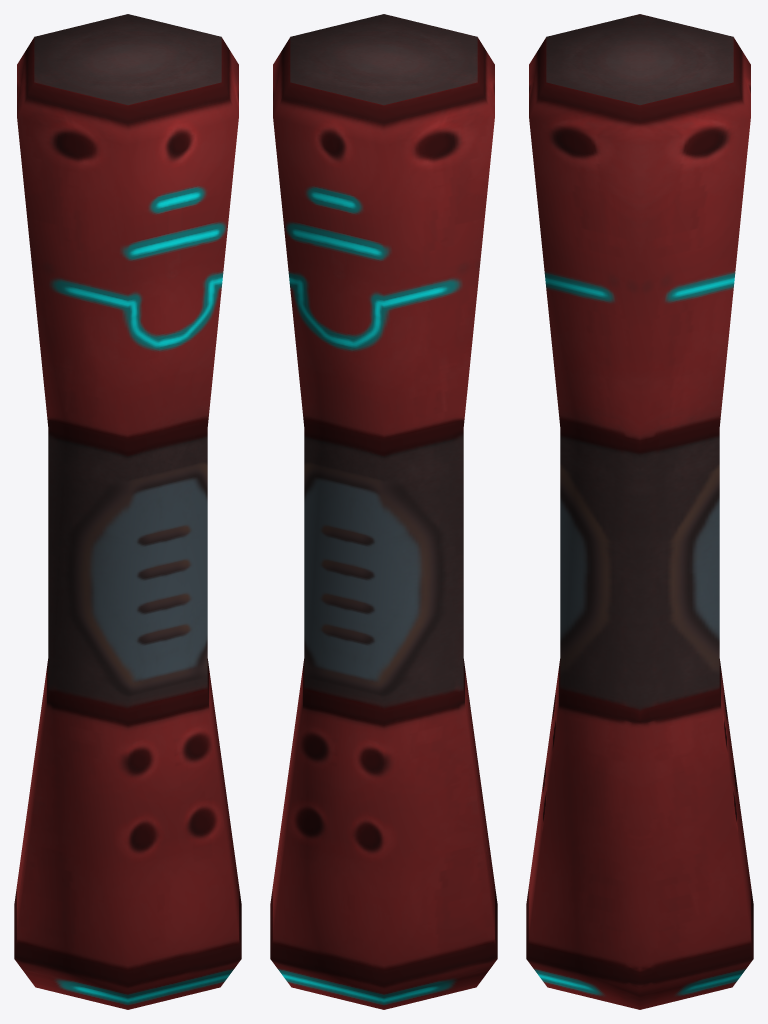
File: EnergySwordS05.fbx
The picture shows the model from 3 angles, left to right: view 1: azimuth 30°, elevation 25°; view 2: azimuth 150°, elevation 25°; view 3: azimuth 270°, elevation 25°; orthographic projection.
Parts seen in each view (by area): view 1: LightsaberS05; view 2: LightsaberS05; view 3: LightsaberS05.
Part boxes in pixels (bbox=[...]): LightsaberS05: bbox=[14, 14, 241, 1009]; LightsaberS05: bbox=[270, 14, 497, 1009]; LightsaberS05: bbox=[526, 14, 753, 1009].
Size of the model in its own units: 1.26 by 4.79 by 1.09.
